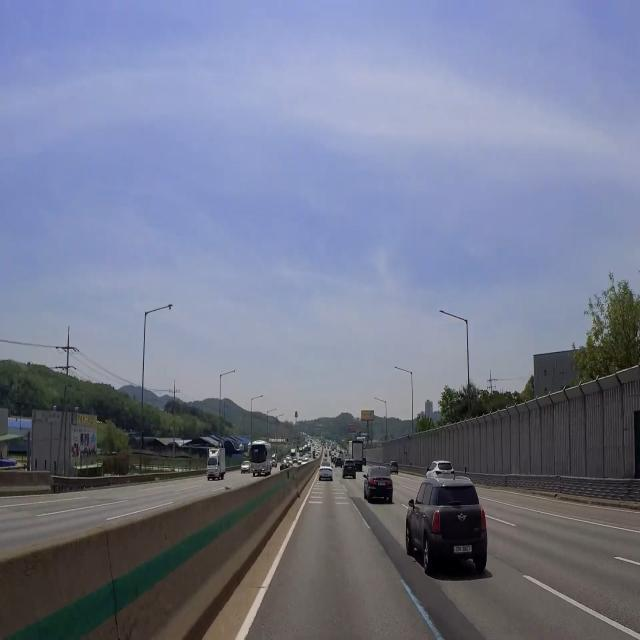car: (453, 544, 473, 554), (377, 481, 386, 487), (323, 473, 328, 478), (256, 469, 261, 474), (347, 466, 352, 470), (209, 472, 214, 476)
